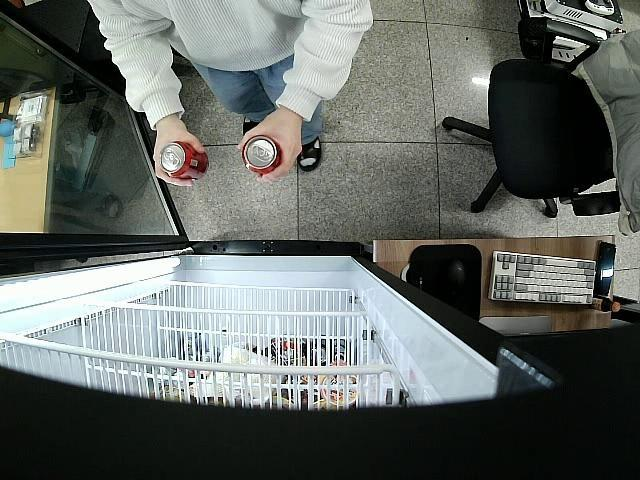11_cocaColaZero: (159, 143, 210, 180), (241, 133, 283, 176)
